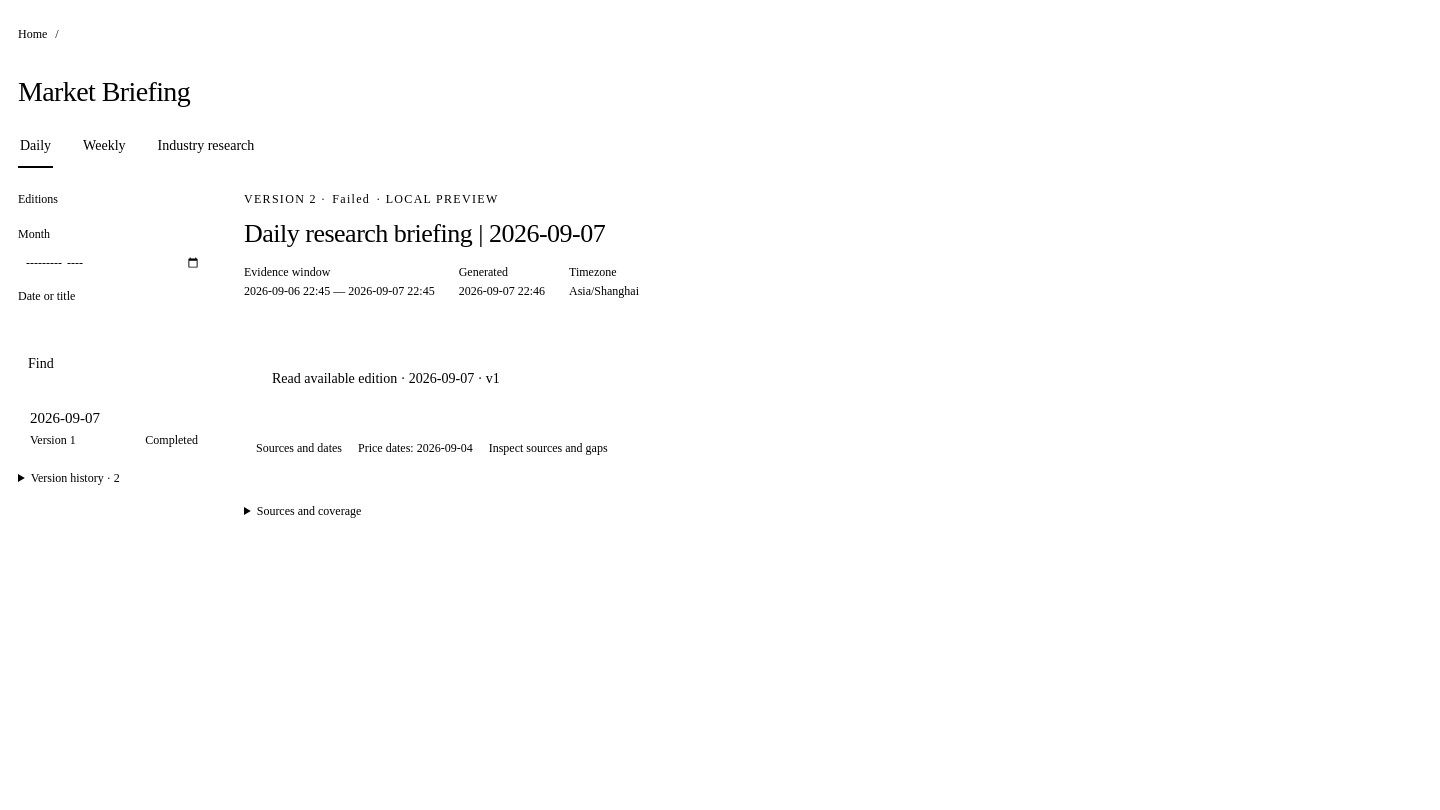
Test: focuses a requested edition when it is selected immediately after the previous edition mounts
Click the button "Read available edition · 2026-09-07 · v1" at (386, 379), box [262,362,510,396]
(page scrolled)
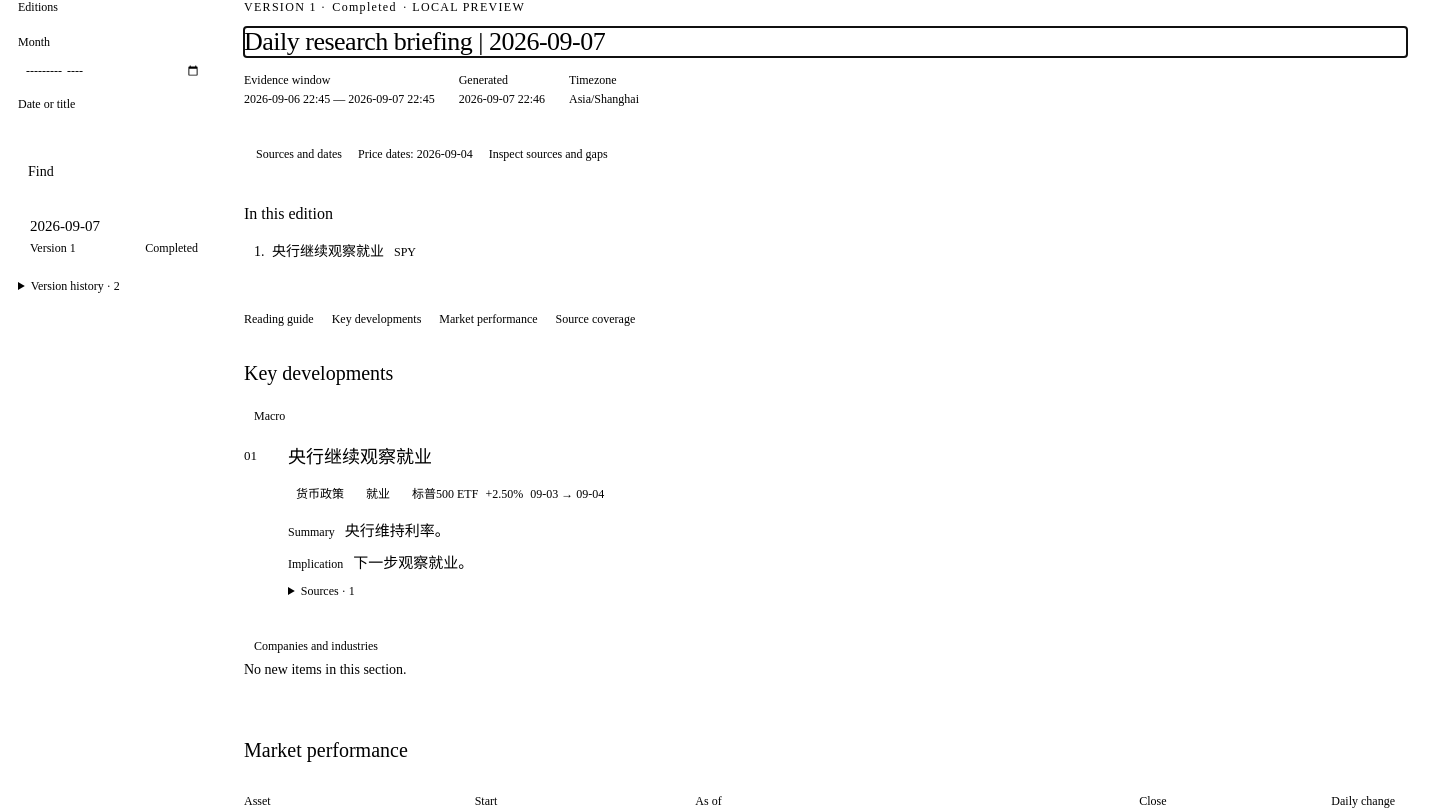
Result: the heading "央行继续观察就业" is shown at [288,447,432,467]
